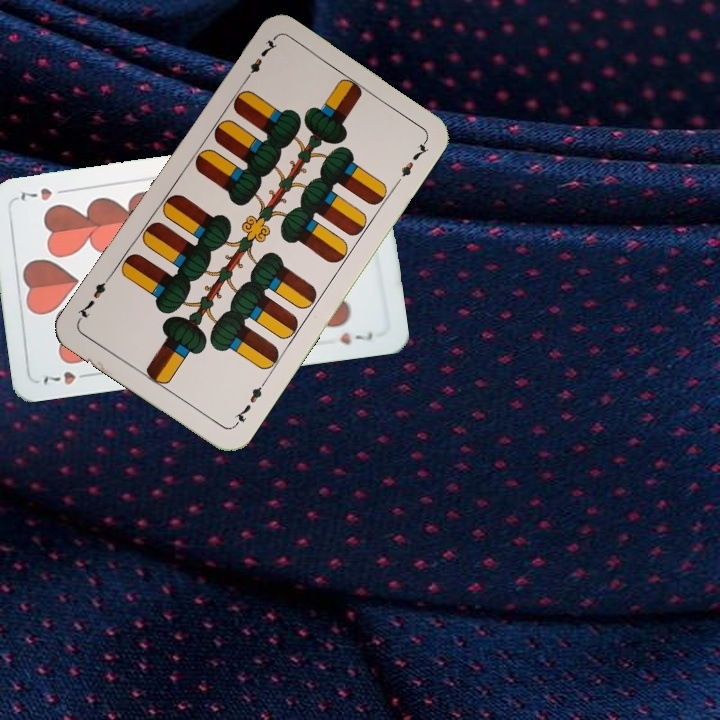E7: (239, 35, 281, 87), (229, 377, 269, 430)
H7: (38, 367, 95, 388)
